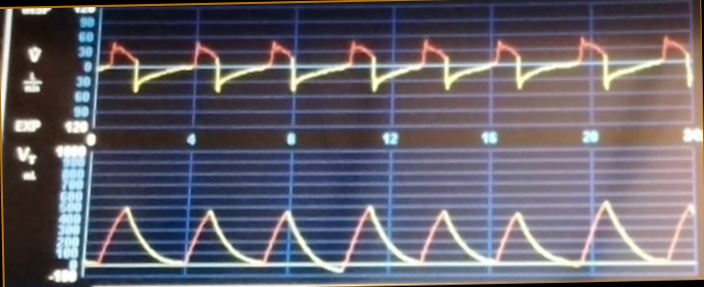Normal Flow: (101, 27, 693, 120)
Normal Volume: (91, 184, 695, 274)
